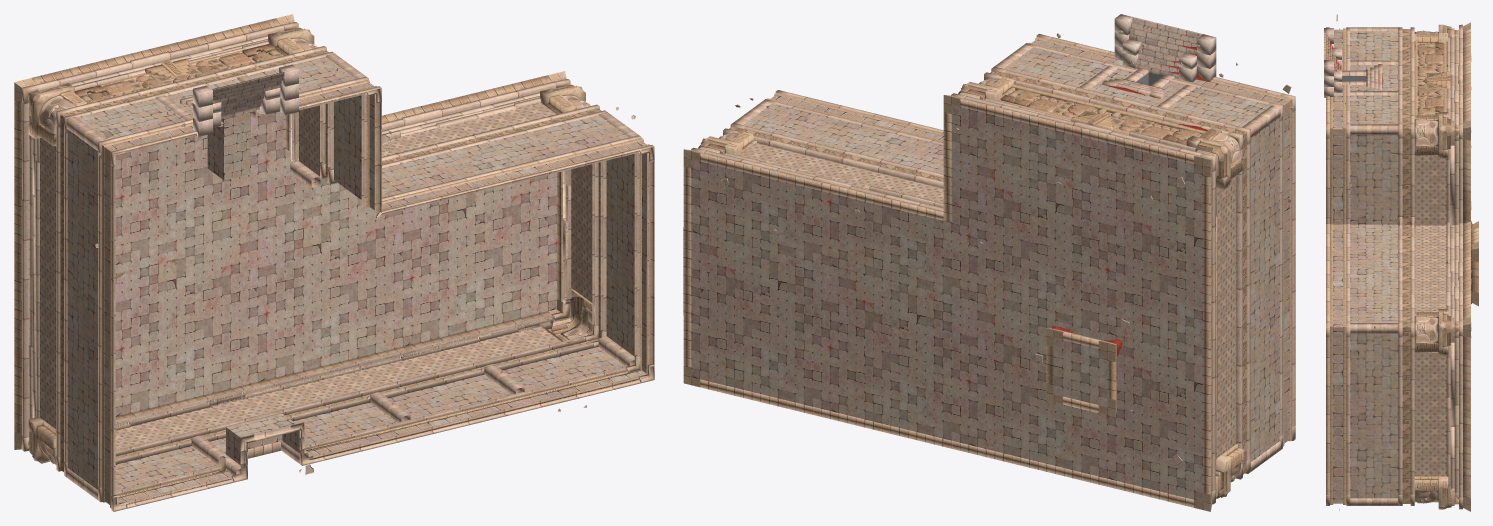
The model's file is KillerCave.obj.
3 views of the same model, side by side, from view 1: azimuth 30°, elevation 25°; view 2: azimuth 150°, elevation 25°; view 3: azimuth 270°, elevation 25° (orthographic). The views are drawn at different scales.
Visible parts, largest first — view 1: BrTileA01__FloorStoneBase02, pasted__pasted__polySurface442__EdgeStoneBlock02, pCube9__WallBrickBase04, pasted__pPlane69__ReliefStoneCross01, JaGuarRelief30__ReliefStonePattern07, Edge00_Low411__EdgeStoneBlock03, ReliefStonePattern08_low24__ReliefStonePattern08, polySurface42__ReliefStonePattern01, StairSide00__StoneGateBlock00, Step10__StairStoneBase01; view 2: BrTileA01__FloorStoneBase02, pasted__pasted__polySurface442__EdgeStoneBlock02, pCube9__WallBrickBase04, pasted__pPlane69__ReliefStoneCross01, JaGuarRelief30__ReliefStonePattern07, Edge00_Low411__EdgeStoneBlock03, ReliefStonePattern08_low24__ReliefStonePattern08, polySurface42__ReliefStonePattern01, Step10__StairStoneBase01, StairSide00__StoneGateBlock00; view 3: pCube9__WallBrickBase04, pasted__pasted__polySurface442__EdgeStoneBlock02, pasted__pPlane69__ReliefStoneCross01, JaGuarRelief30__ReliefStonePattern07, ReliefStonePattern08_low24__ReliefStonePattern08, Edge00_Low411__EdgeStoneBlock03, polySurface42__ReliefStonePattern01, StairSide00__StoneGateBlock00, WallB02__StoneBrick00, Step10__StairStoneBase01.
Boxes of the visible parts, <box> form: BrTileA01__FloorStoneBase02: <box>95,69,635,474</box>; pasted__pasted__polySurface442__EdgeStoneBlock02: <box>14,18,654,508</box>; pCube9__WallBrickBase04: <box>67,57,646,504</box>; pasted__pPlane69__ReliefStoneCross01: <box>40,102,592,450</box>; JaGuarRelief30__ReliefStonePattern07: <box>75,44,651,507</box>; Edge00_Low411__EdgeStoneBlock03: <box>14,14,654,511</box>; ReliefStonePattern08_low24__ReliefStonePattern08: <box>28,27,594,464</box>; polySurface42__ReliefStonePattern01: <box>60,50,601,471</box>; StairSide00__StoneGateBlock00: <box>193,64,298,136</box>; Step10__StairStoneBase01: <box>212,72,284,119</box>; BrTileA01__FloorStoneBase02: <box>691,30,1293,501</box>; pasted__pasted__polySurface442__EdgeStoneBlock02: <box>683,37,1295,507</box>; pCube9__WallBrickBase04: <box>743,39,1289,461</box>; pasted__pPlane69__ReliefStoneCross01: <box>740,143,1236,457</box>; JaGuarRelief30__ReliefStonePattern07: <box>766,37,1292,446</box>; Edge00_Low411__EdgeStoneBlock03: <box>683,34,1295,511</box>; ReliefStonePattern08_low24__ReliefStonePattern08: <box>698,77,1243,498</box>; polySurface42__ReliefStonePattern01: <box>729,70,1246,474</box>; Step10__StairStoneBase01: <box>1129,17,1202,78</box>; StairSide00__StoneGateBlock00: <box>1114,14,1216,82</box>; pCube9__WallBrickBase04: <box>1333,29,1398,503</box>; pasted__pasted__polySurface442__EdgeStoneBlock02: <box>1326,29,1478,497</box>; pasted__pPlane69__ReliefStoneCross01: <box>1414,156,1446,476</box>; JaGuarRelief30__ReliefStonePattern07: <box>1330,28,1450,504</box>; ReliefStonePattern08_low24__ReliefStonePattern08: <box>1414,24,1458,509</box>; Edge00_Low411__EdgeStoneBlock03: <box>1326,22,1478,511</box>; polySurface42__ReliefStonePattern01: <box>1402,29,1410,503</box>; StairSide00__StoneGateBlock00: <box>1324,28,1341,97</box>; WallB02__StoneBrick00: <box>1417,45,1443,112</box>; Step10__StairStoneBase01: <box>1324,33,1341,69</box>.
Bounding box in the file's own units: 6196 × 4448 × 1925.
14 materials, 12 textured.
